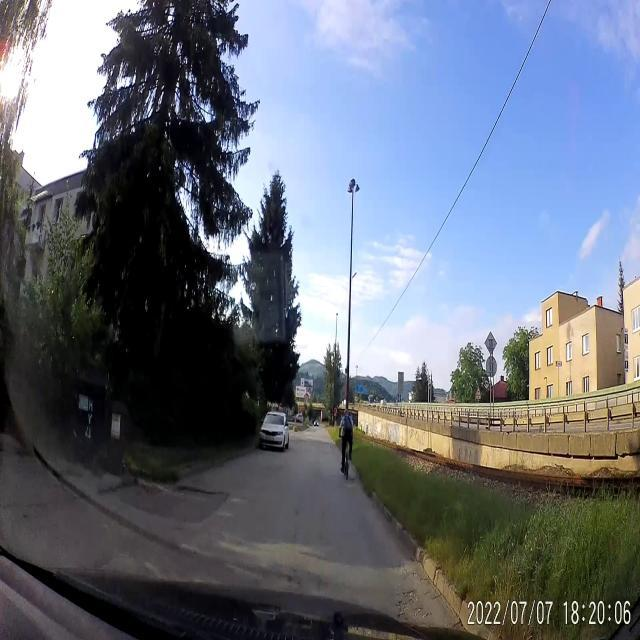Pothole: (174, 484, 230, 496)
